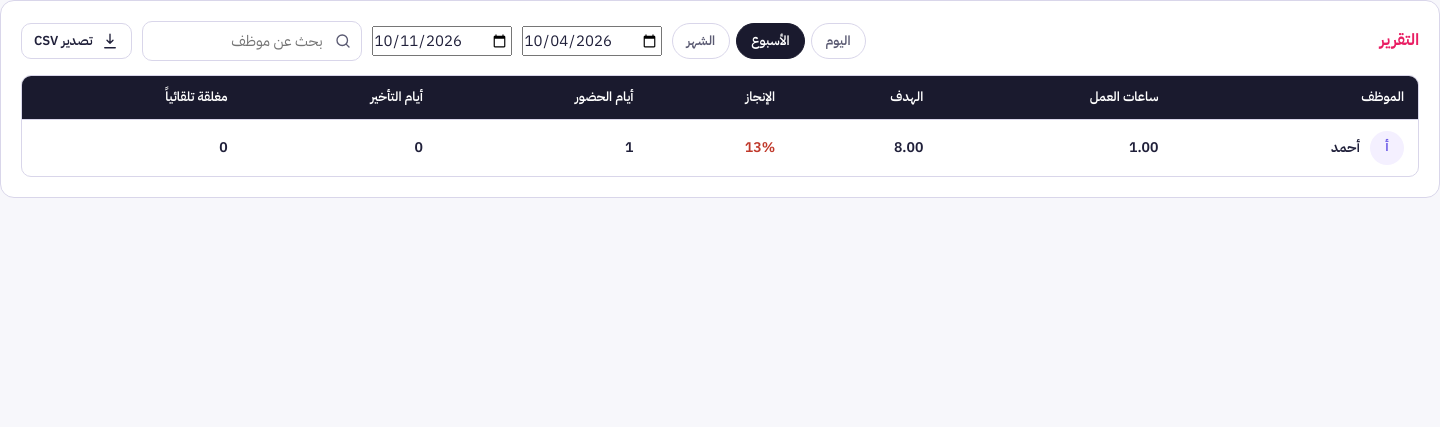
Scenario: ReportPanel › shows each session's break and note in the detail
The image size is (1440, 427).
Click the text "أحمد" at (1346, 148), box [1331,137,1360,159]
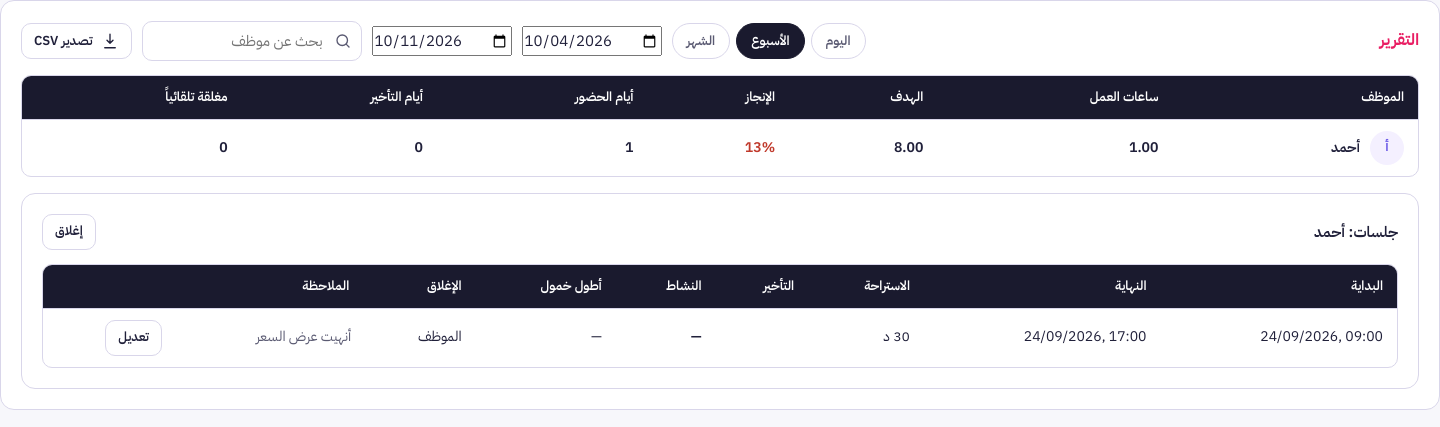
Expected: the text "30 د" is shown, [808,308,924,367]
Expected: the text "أنهيت عرض السعر" is shown, [176,308,363,367]
Expected: the column heading "الملاحظة" is shown, [176,265,363,308]
